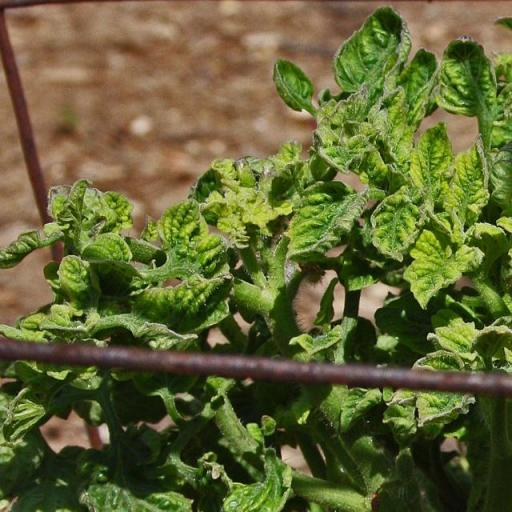disease_tomato: (102, 272, 234, 348), (274, 182, 374, 270), (330, 4, 412, 104), (402, 228, 478, 315), (432, 36, 500, 128), (364, 186, 438, 266), (441, 146, 496, 240), (150, 192, 218, 248), (410, 119, 454, 202), (76, 230, 141, 270)
